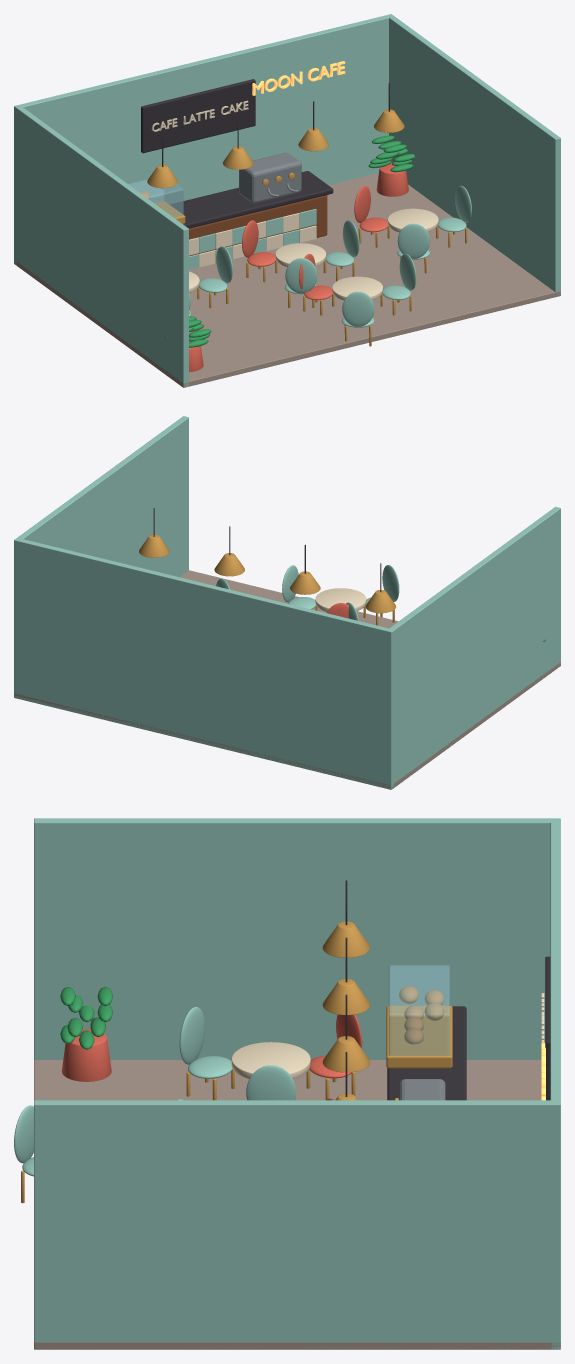
Rendered from stylized_cafe_interior.glb.
3 renders of one model, top to bottom at view 1: azimuth 30°, elevation 25°; view 2: azimuth 150°, elevation 25°; view 3: azimuth 270°, elevation 25°, orthographic. The views are drawn at different scales.
Parts seen in each view (by area): view 1: Cafe_BackWall, Cafe_Floor, Cafe_LeftWall, Cafe_RightWall, Cafe_MenuBoard, Cafe_CounterTop, EspressoMachine_Body, Cafe_ServiceCounter, Cafe_PastryDisplay_Glass, CafeChair_4_3_BackCushion, CafeChair_3_3_BackCushion, CafeTable_3_Top (+16 smaller); view 2: Cafe_BackWall, Cafe_LeftWall, Cafe_RightWall, Cafe_Floor, CafeTable_4_Top, Pendant_Shade_4, Pendant_Shade_3, Pendant_Shade_2, Pendant_Shade_1, CafeChair_4_3_BackCushion; view 3: Cafe_RightWall, Cafe_LeftWall, Cafe_Floor, Cafe_PastryDisplay_Glass, Cafe_BackWall, Cafe_PastryDisplay_Base, Cafe_CounterTop, CafeTable_1_Top, CafePlant_Pot_1, CafeChair_1_1_BackCushion, Pendant_Shade_3, Pendant_Shade_1 (+6 smaller).
Boxes of the visible parts, left/top/right/bottom form: Cafe_BackWall: left=14, top=14, right=393, bottom=264; Cafe_Floor: left=15, top=173, right=560, bottom=387; Cafe_LeftWall: left=14, top=105, right=188, bottom=387; Cafe_RightWall: left=388, top=14, right=560, bottom=296; Cafe_MenuBoard: left=141, top=79, right=255, bottom=153; Cafe_CounterTop: left=170, top=171, right=333, bottom=228; EspressoMachine_Body: left=239, top=152, right=301, bottom=203; Cafe_ServiceCounter: left=189, top=195, right=327, bottom=256; Cafe_PastryDisplay_Glass: left=128, top=178, right=183, bottom=217; CafeChair_4_3_BackCushion: left=342, top=291, right=374, bottom=326; CafeChair_3_3_BackCushion: left=397, top=223, right=429, bottom=258; CafeTable_3_Top: left=387, top=208, right=438, bottom=232; Cafe_BackWall: left=14, top=539, right=394, bottom=789; Cafe_LeftWall: left=386, top=506, right=560, bottom=787; Cafe_RightWall: left=14, top=416, right=188, bottom=643; Cafe_Floor: left=14, top=570, right=560, bottom=788; CafeTable_4_Top: left=315, top=588, right=366, bottom=611; Pendant_Shade_4: left=139, top=534, right=169, bottom=557; Pendant_Shade_3: left=214, top=553, right=244, bottom=576; Pendant_Shade_2: left=290, top=571, right=320, bottom=594; Pendant_Shade_1: left=365, top=590, right=395, bottom=613; CafeChair_4_3_BackCushion: left=382, top=565, right=399, bottom=601; Cafe_RightWall: left=34, top=1100, right=560, bottom=1348; Cafe_LeftWall: left=34, top=818, right=560, bottom=1059; Cafe_Floor: left=34, top=1060, right=560, bottom=1349; Cafe_PastryDisplay_Glass: left=388, top=965, right=450, bottom=1055; Cafe_BackWall: left=550, top=818, right=560, bottom=1349; Cafe_PastryDisplay_Base: left=386, top=1005, right=452, bottom=1068; Cafe_CounterTop: left=387, top=1006, right=466, bottom=1100; CafeTable_1_Top: left=231, top=1042, right=310, bottom=1078; CafePlant_Pot_1: left=61, top=1029, right=111, bottom=1081; CafeChair_1_1_BackCushion: left=246, top=1065, right=296, bottom=1100; Pendant_Shade_3: left=322, top=1036, right=370, bottom=1072; Pendant_Shade_1: left=322, top=921, right=370, bottom=957.
Size of the model in its own units: 9.03 by 3.6 by 7.27.
